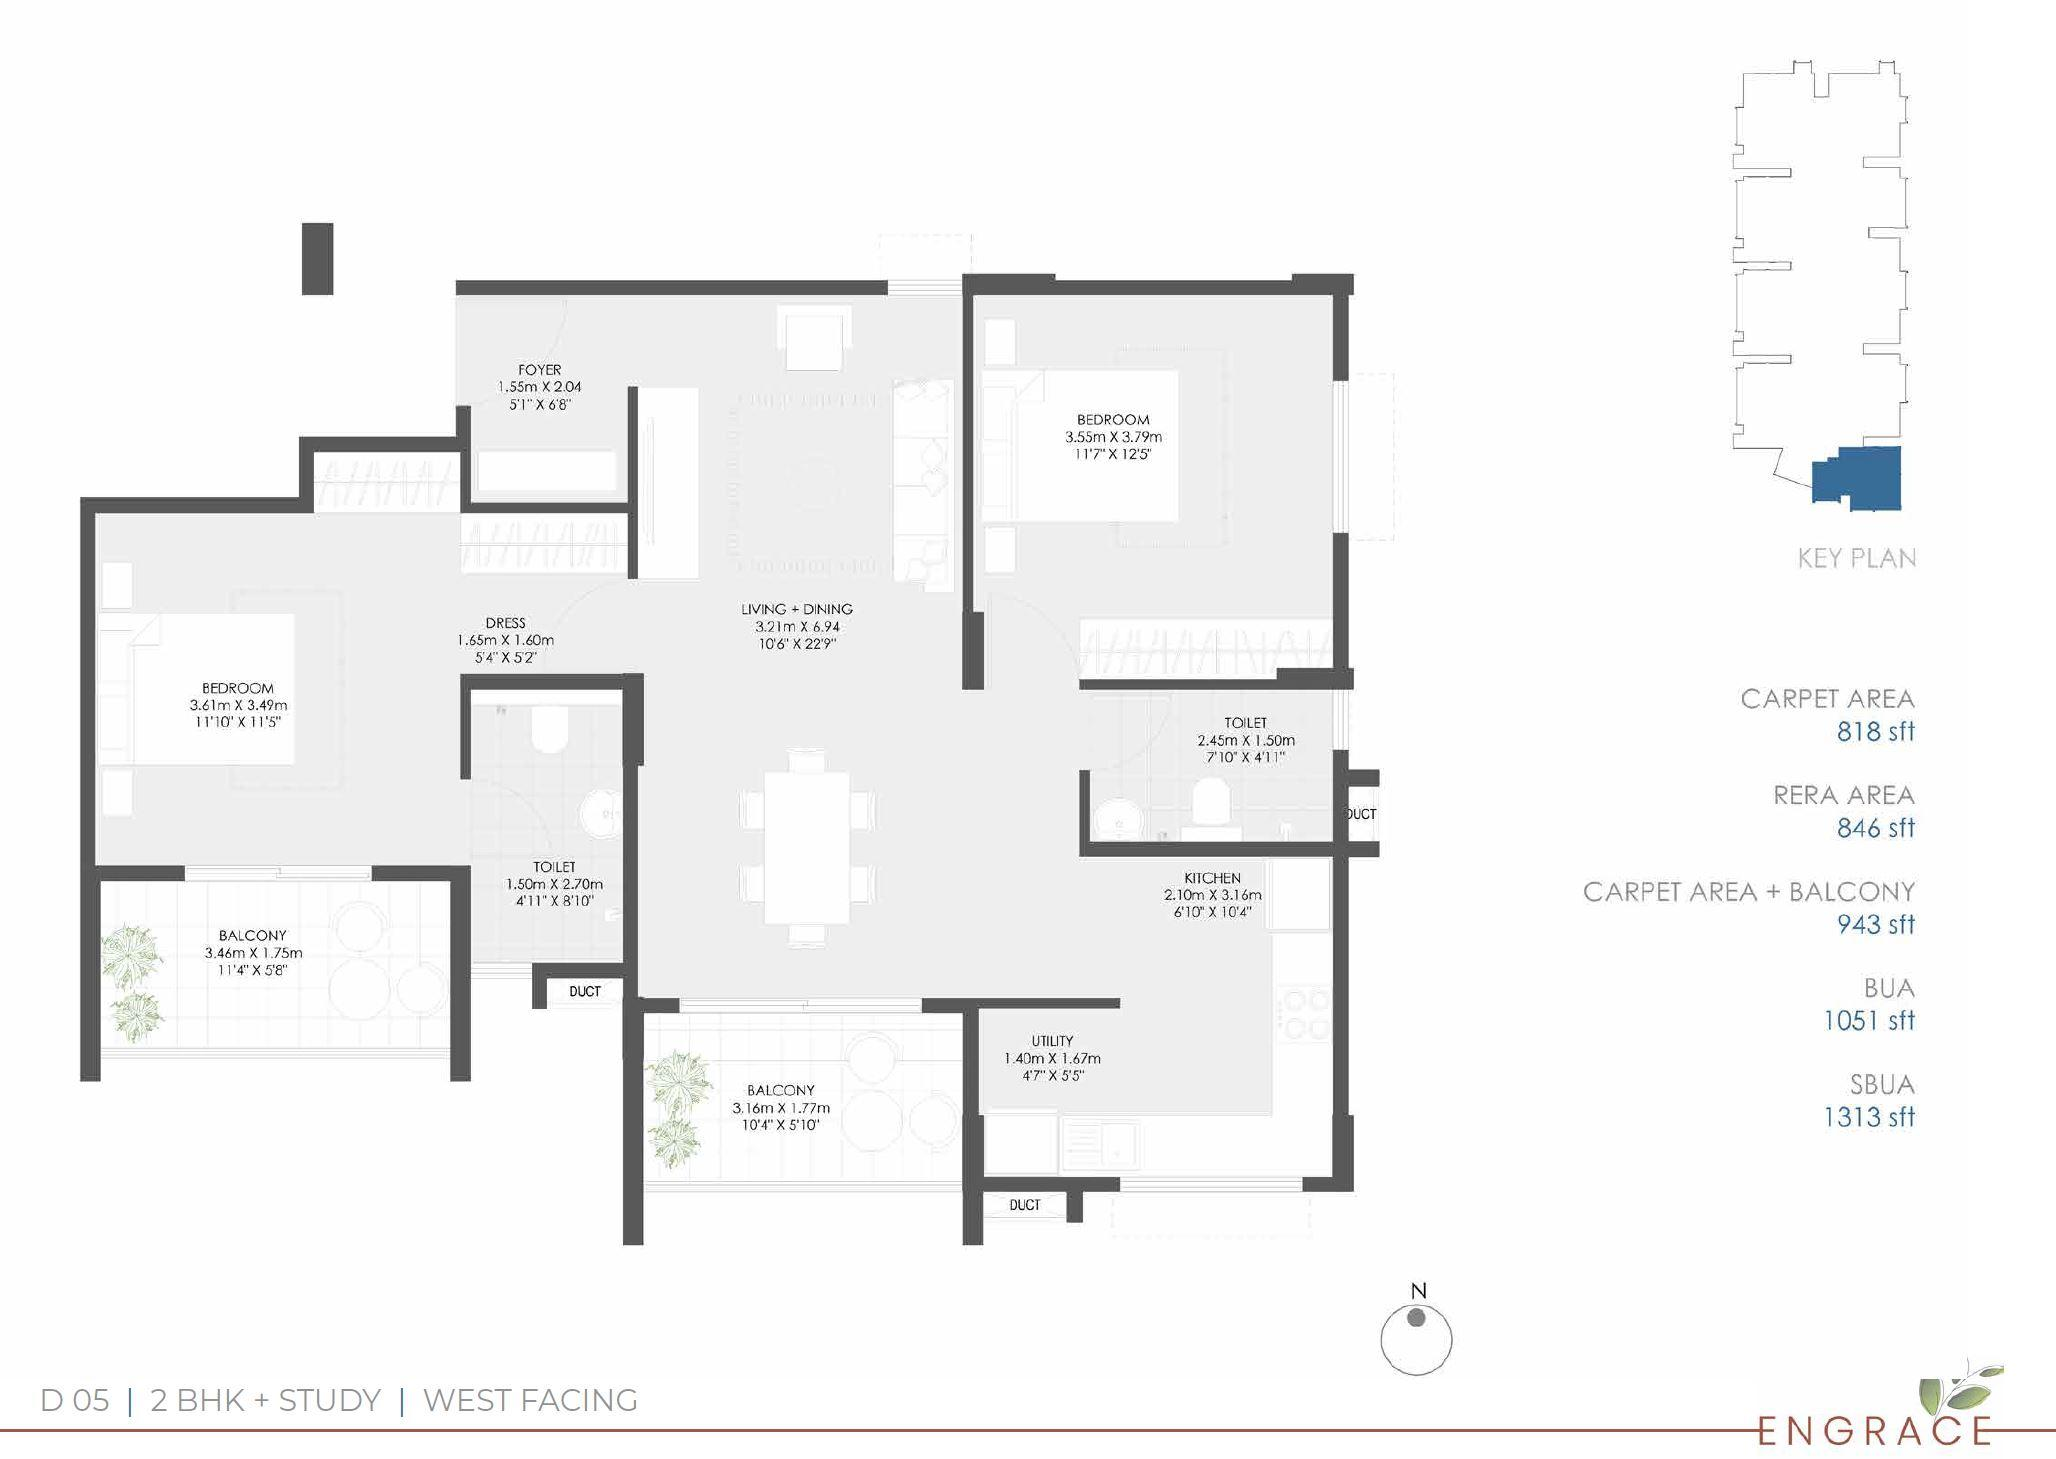Balcony: (92, 876, 456, 1045), (636, 1006, 968, 1187)
Bed: (979, 368, 1178, 524), (93, 613, 294, 766)
Bedroom: (976, 291, 1333, 669), (95, 512, 463, 865)
Dining Room: (633, 688, 1049, 1004)
Dining table: (722, 733, 899, 954)
Foyer: (463, 287, 630, 508)
Kitchen: (1049, 859, 1333, 1175)
Living Room: (801, 291, 1139, 692)
Sofa: (889, 379, 955, 597), (775, 302, 853, 374)
Wardrobe: (1080, 613, 1331, 676), (460, 515, 625, 573), (314, 453, 458, 515), (482, 445, 616, 494)
commode: (534, 699, 570, 756), (1192, 774, 1236, 820)
door: (456, 287, 575, 409), (1075, 688, 1176, 786), (540, 579, 636, 673), (984, 597, 1077, 688), (679, 990, 919, 1022), (463, 780, 550, 865), (182, 861, 376, 892)
dress: (463, 515, 625, 673)
duct: (548, 974, 621, 1014), (1347, 788, 1382, 845)
fridge: (1262, 861, 1333, 927)
kitchen-slab: (1056, 1112, 1334, 1173), (1270, 927, 1333, 1175)
sink: (1060, 1118, 1140, 1173), (575, 793, 621, 840), (1096, 799, 1148, 840)
stove: (1271, 984, 1334, 1044)
toilet: (467, 692, 630, 966), (1079, 688, 1336, 845)
utility: (979, 1007, 1139, 1175)
washing-machine: (981, 1112, 1053, 1173)
